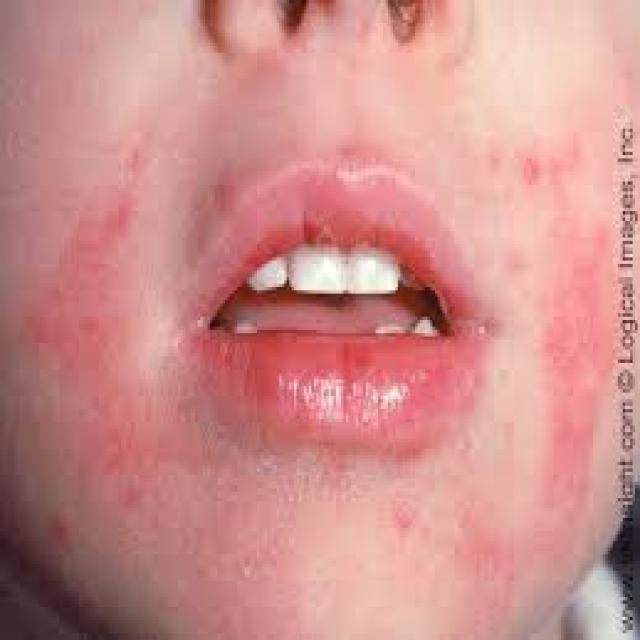Eczema: (480, 107, 615, 514), (66, 155, 162, 428)
